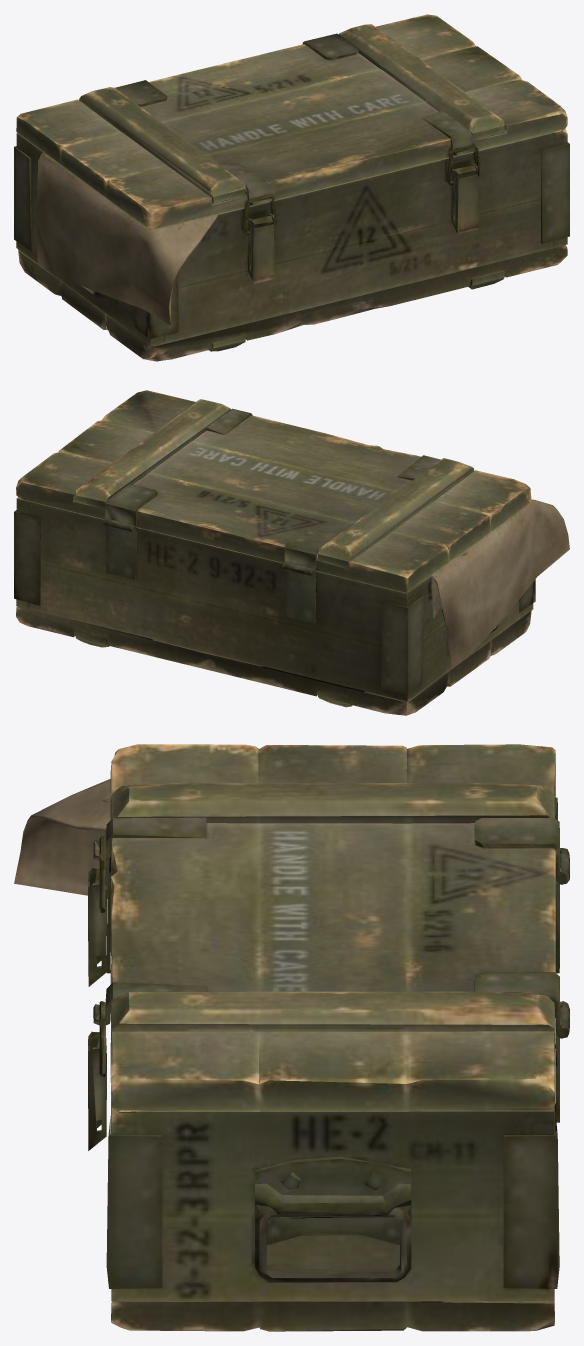
Rendered from old_military_crate_a.glb.
3 renders of one model, top to bottom at view 1: azimuth 30°, elevation 25°; view 2: azimuth 150°, elevation 25°; view 3: azimuth 270°, elevation 25°, orthographic. The views are drawn at different scales.
Visible parts, largest first — view 1: old_military_crate_a; view 2: old_military_crate_a; view 3: old_military_crate_a.
Part boxes in pixels (<box>): old_military_crate_a: <box>14,14,569,361</box>; old_military_crate_a: <box>14,390,569,715</box>; old_military_crate_a: <box>14,744,569,1331</box>.
Size of what is drawn, in the model's own units: 0.8157 by 0.3004 by 0.5376.
Materials: 1 (1 with a texture image).
